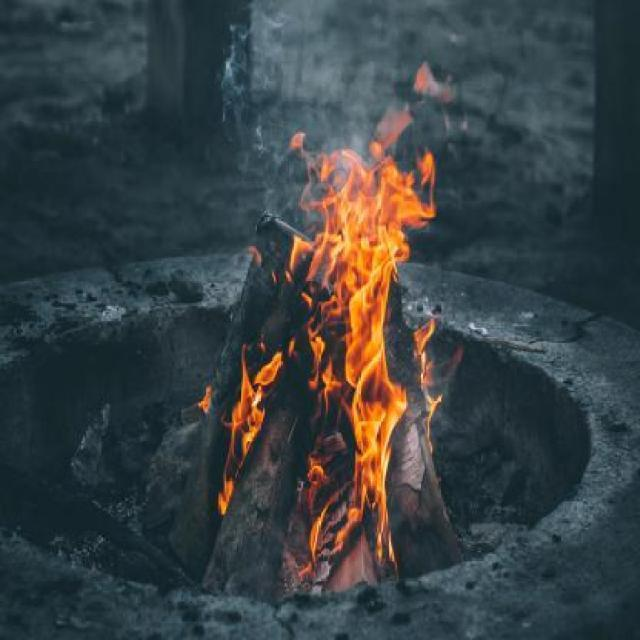fire: (312, 154, 403, 566)
